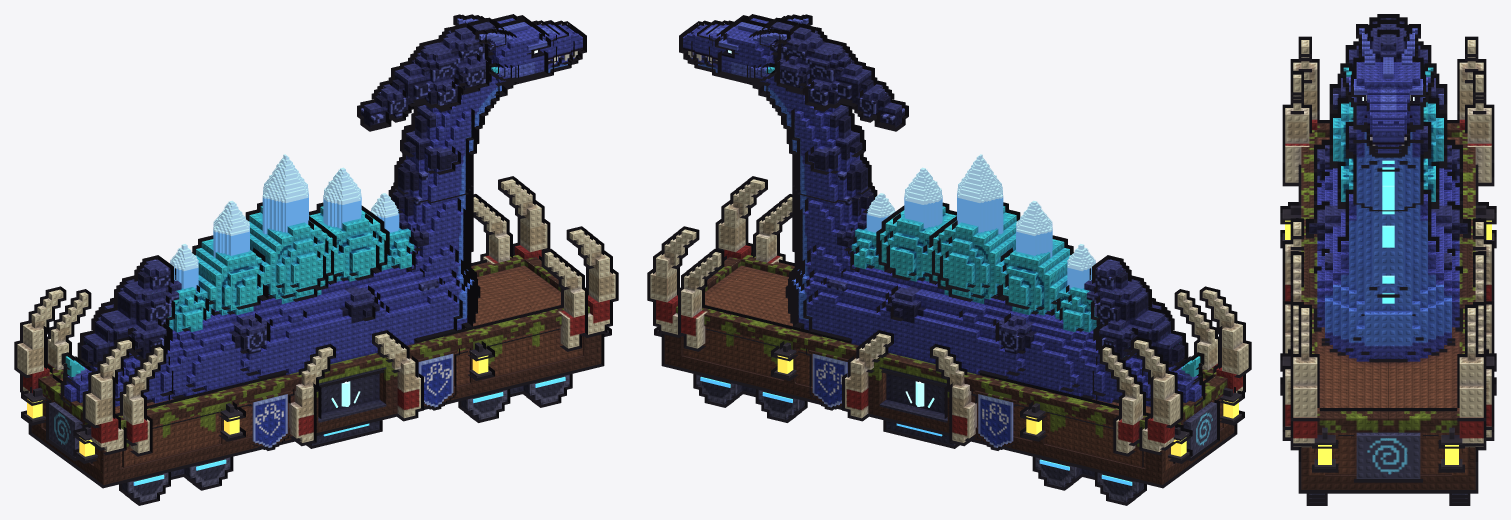
The model's file is storm_serpent.glb.
3 renders of one model, left to right at view 1: azimuth 30°, elevation 25°; view 2: azimuth 150°, elevation 25°; view 3: azimuth 270°, elevation 25°, orthographic. The views are drawn at different scales.
Parts seen in each view (by area): view 1: Wagon, Body, Head, Crystals, Neck2, Neck1, Tail2, Tail1; view 2: Wagon, Body, Head, Crystals, Neck2, Neck1, Tail2, Tail1; view 3: Wagon, Body, Head, Neck1, Neck2, NeckStripe3, Jaw, NeckStripe2, NeckStripe4, Lantern_FL, Lantern_FR.
Boxes of the visible parts, x1,y1,x2,y2 form: Wagon: (14, 176, 618, 505); Body: (77, 202, 480, 400); Head: (357, 14, 586, 131); Crystals: (170, 154, 399, 291); Neck2: (394, 60, 499, 203); Neck1: (388, 180, 473, 284); Tail2: (60, 352, 126, 406); Tail1: (120, 353, 173, 403); Wagon: (647, 176, 1251, 505); Body: (785, 202, 1188, 400); Head: (679, 14, 908, 131); Crystals: (866, 154, 1095, 291); Neck2: (766, 60, 871, 203); Neck1: (792, 182, 877, 284); Tail2: (1139, 352, 1205, 406); Tail1: (1092, 353, 1145, 403); Wagon: (1280, 36, 1496, 505); Body: (1306, 73, 1470, 362); Head: (1340, 14, 1436, 151); Neck1: (1337, 177, 1439, 315); Neck2: (1345, 121, 1431, 211); NeckStripe3: (1382, 185, 1394, 214); Jaw: (1369, 144, 1407, 157); NeckStripe2: (1382, 225, 1394, 247); NeckStripe4: (1382, 160, 1394, 185); Lantern_FL: (1445, 445, 1458, 464); Lantern_FR: (1318, 445, 1331, 464).
Size of the model in its own units: 44.8 by 29.8 by 13.12.
10 materials, 4 textured.
